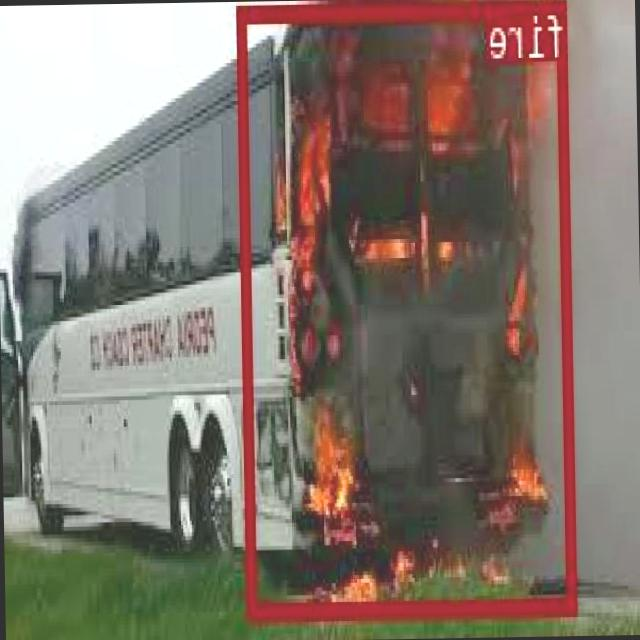fire: (238, 0, 579, 616)
